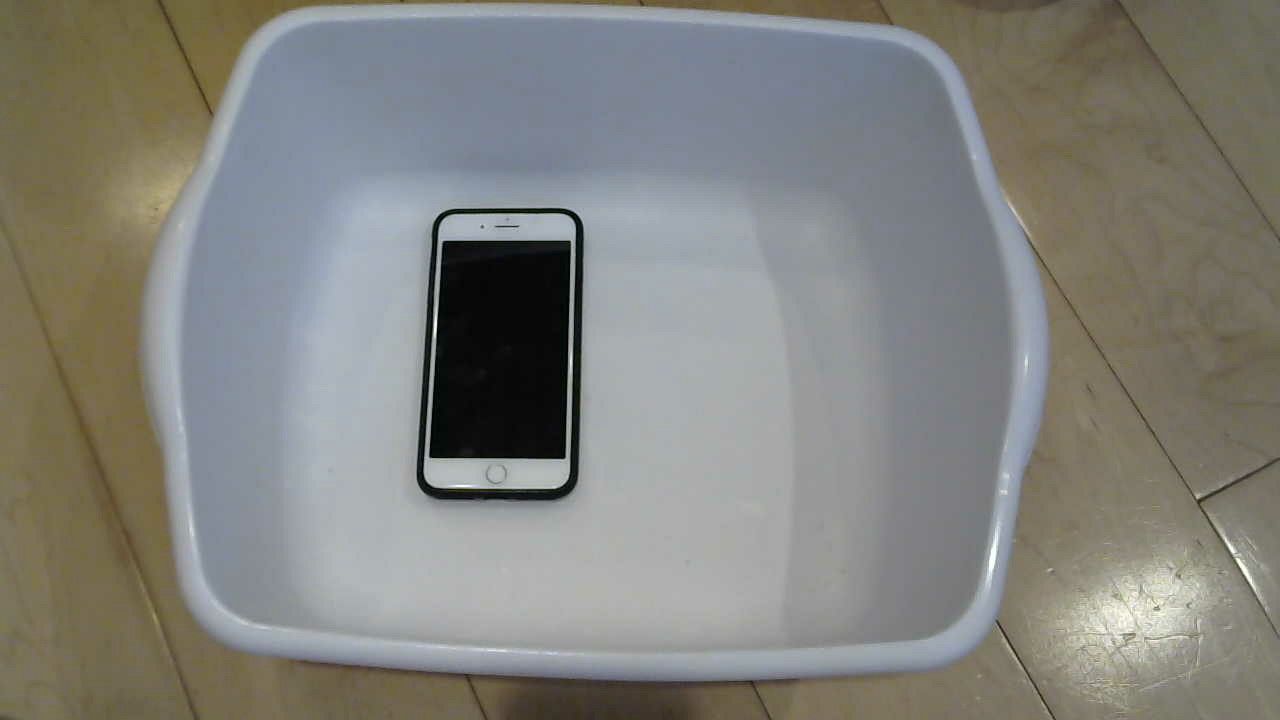phone: (411, 207, 596, 518)
